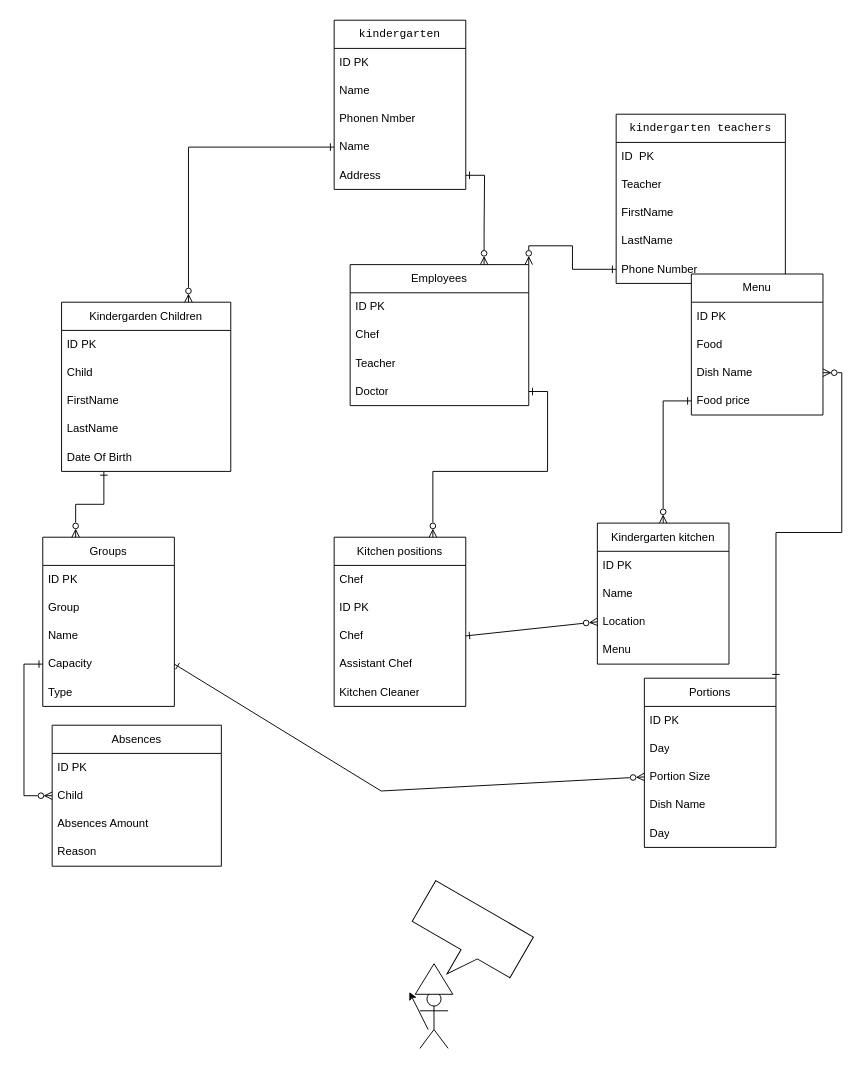
Some shapes in this 867 by 1084 pixel diagram are drawn without their labels. Here are the shapes that lost their labels. From the top down, the centre of each, then its label:
At (465,941): "ära anna minule 2".
At (433,1019): "Actor".
